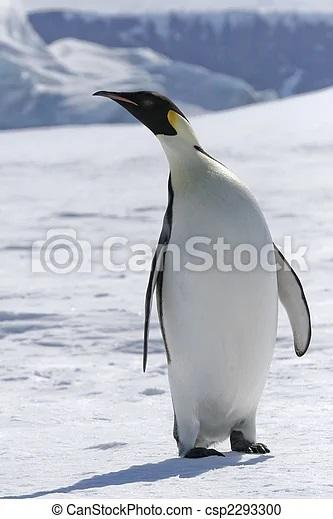king: (64, 67, 316, 467)
